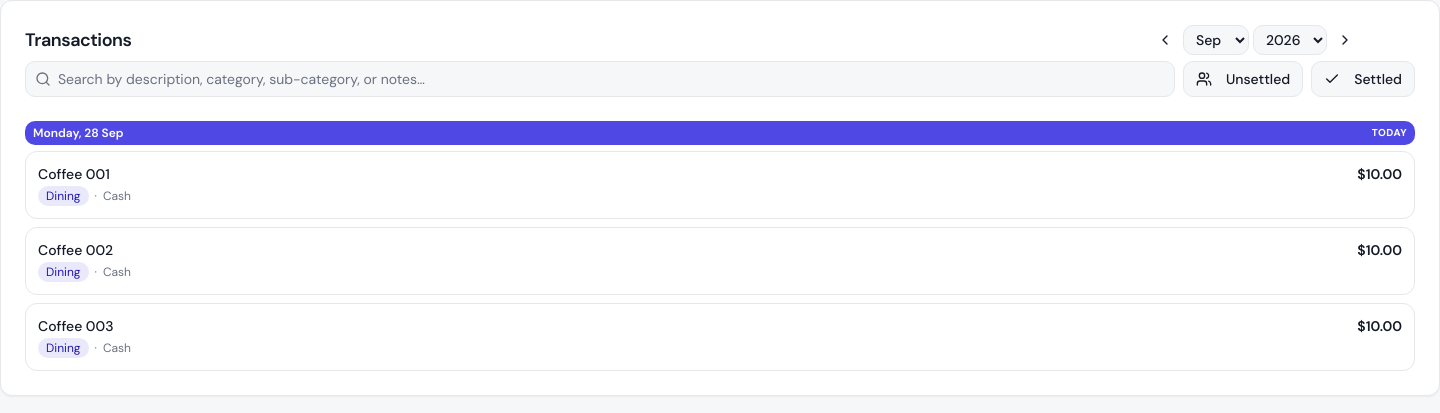
Test: TransactionList search › still matches on notes and sub-category, not just the description
Type "reimburs" into the field with placeholder "Search by description, category, sub-category, or notes…" at (600, 79), box [25, 61, 1175, 97]
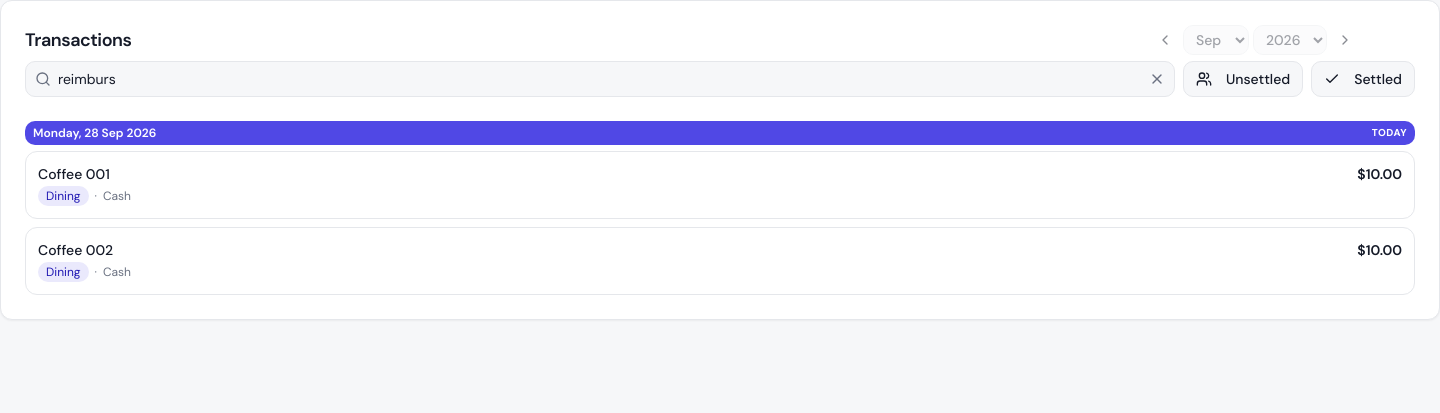
Now the text "Coffee 001" is shown 2 times, box [38, 165, 110, 183]; [38, 241, 113, 259]
Now the text "Coffee 003" is gone
